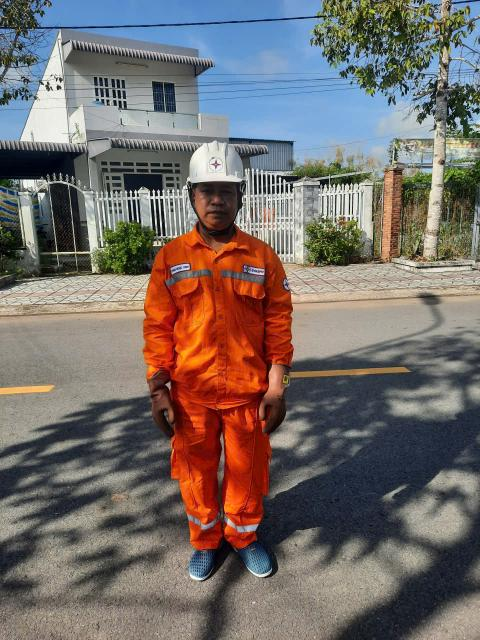gloves: (255, 353, 306, 438), (147, 366, 183, 453)
helmet: (181, 138, 263, 198)
shoes: (230, 536, 279, 579), (185, 538, 219, 587)
